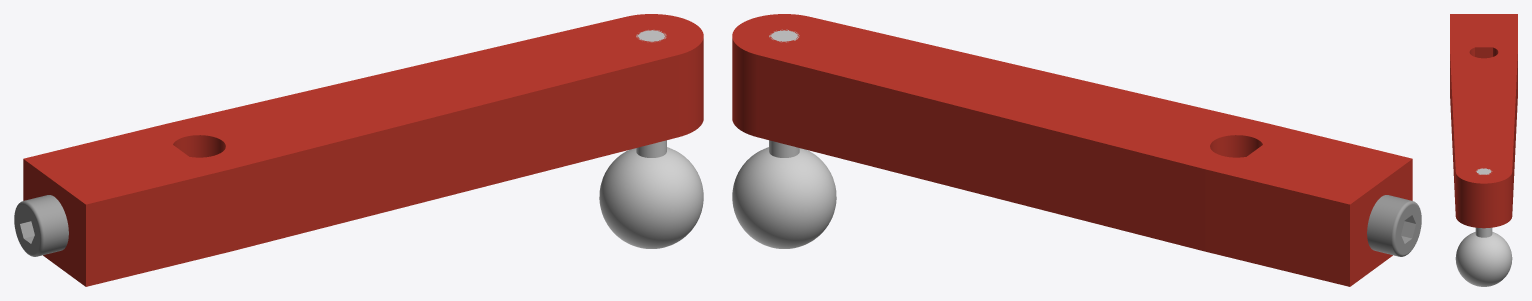
File: arm assembly v7.obj
The picture shows the model from 3 angles, left to right: view 1: azimuth 30°, elevation 25°; view 2: azimuth 150°, elevation 25°; view 3: azimuth 270°, elevation 25°; orthographic projection. The views are drawn at different scales.
Visible parts, largest first — view 1: arm, Body2, Body1; view 2: arm, Body2, Body1; view 3: arm, Body2.
Part boxes in pixels (x1,y1,x2,y2): arm: [23, 14, 703, 286]; Body2: [599, 30, 703, 248]; Body1: [14, 195, 68, 256]; arm: [732, 14, 1412, 286]; Body2: [732, 29, 836, 248]; Body1: [1367, 195, 1421, 256]; arm: [1450, 14, 1517, 228]; Body2: [1455, 168, 1512, 286].
Bounding box in the file's own units: 73.99 × 22 × 12.
